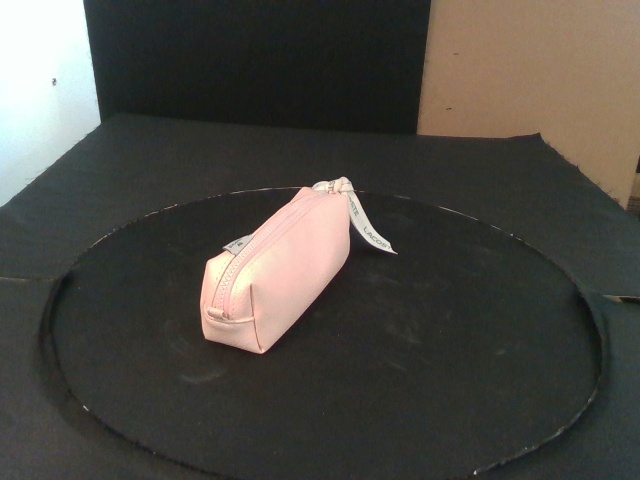pencil_case: (199, 184, 352, 355)
